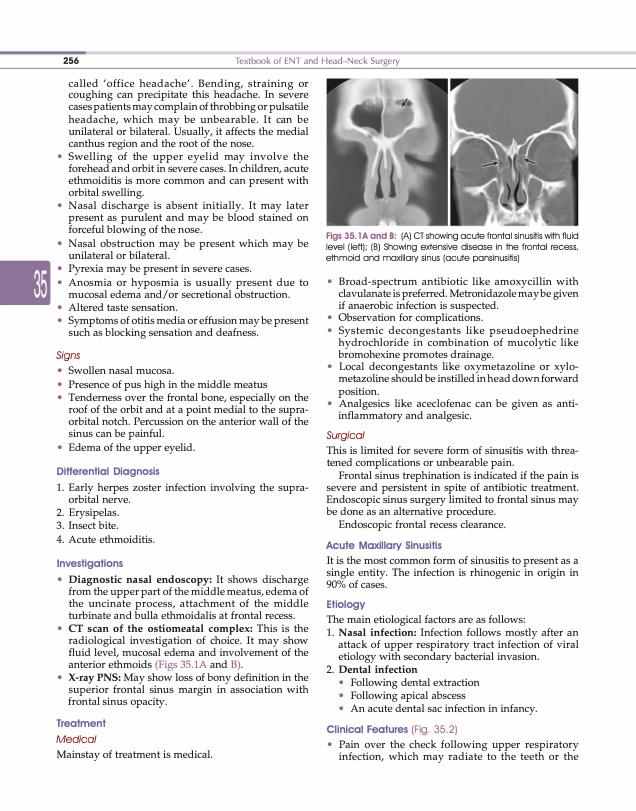caption: (325, 231, 580, 264)
header: (234, 55, 401, 67)
image: (450, 78, 579, 226), (325, 77, 449, 226)
list: (57, 77, 310, 340), (326, 275, 579, 423), (56, 573, 310, 710), (325, 627, 580, 718), (55, 364, 310, 455), (54, 481, 309, 545), (327, 739, 580, 764)
sub-section-heading: (325, 540, 443, 552), (56, 466, 161, 478), (56, 558, 125, 571), (326, 724, 409, 734), (55, 717, 107, 729), (325, 598, 366, 611), (325, 429, 366, 442), (55, 733, 98, 745), (55, 349, 81, 362)
text: (324, 444, 579, 533), (325, 555, 580, 590), (325, 614, 526, 627), (56, 749, 214, 763)
